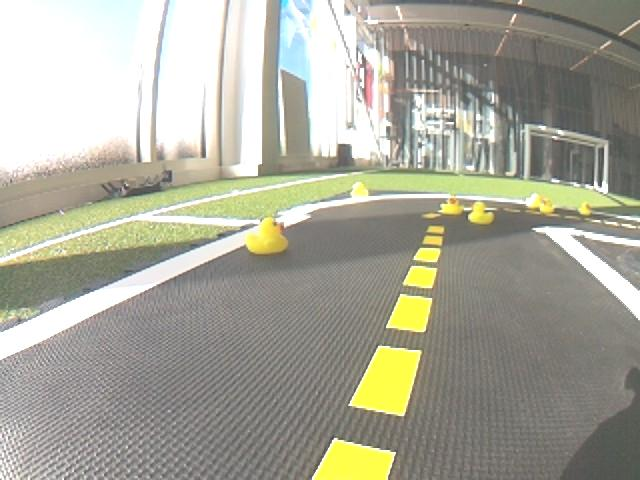Duckies: (243, 217, 288, 256), (466, 204, 492, 225), (441, 198, 463, 215), (352, 183, 369, 196), (527, 196, 544, 209), (577, 202, 591, 215), (540, 202, 554, 213)
